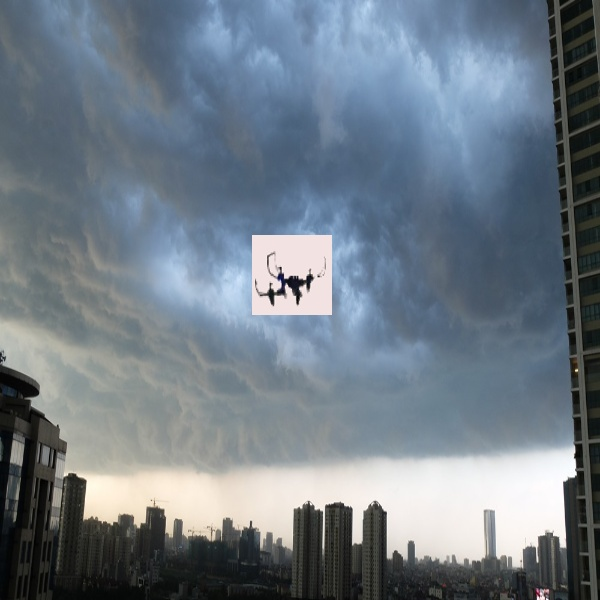drone: (258, 249, 332, 315)
